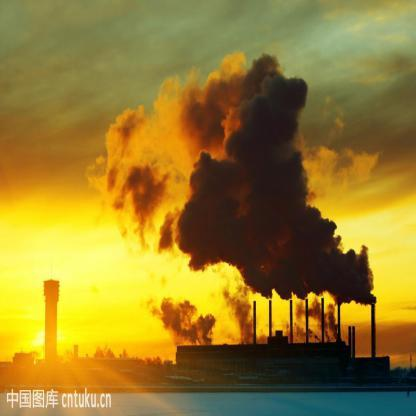smoke: (210, 181, 317, 252), (119, 176, 209, 249), (110, 107, 208, 174), (207, 65, 306, 127), (206, 124, 310, 180), (242, 250, 316, 298), (317, 232, 358, 296)
